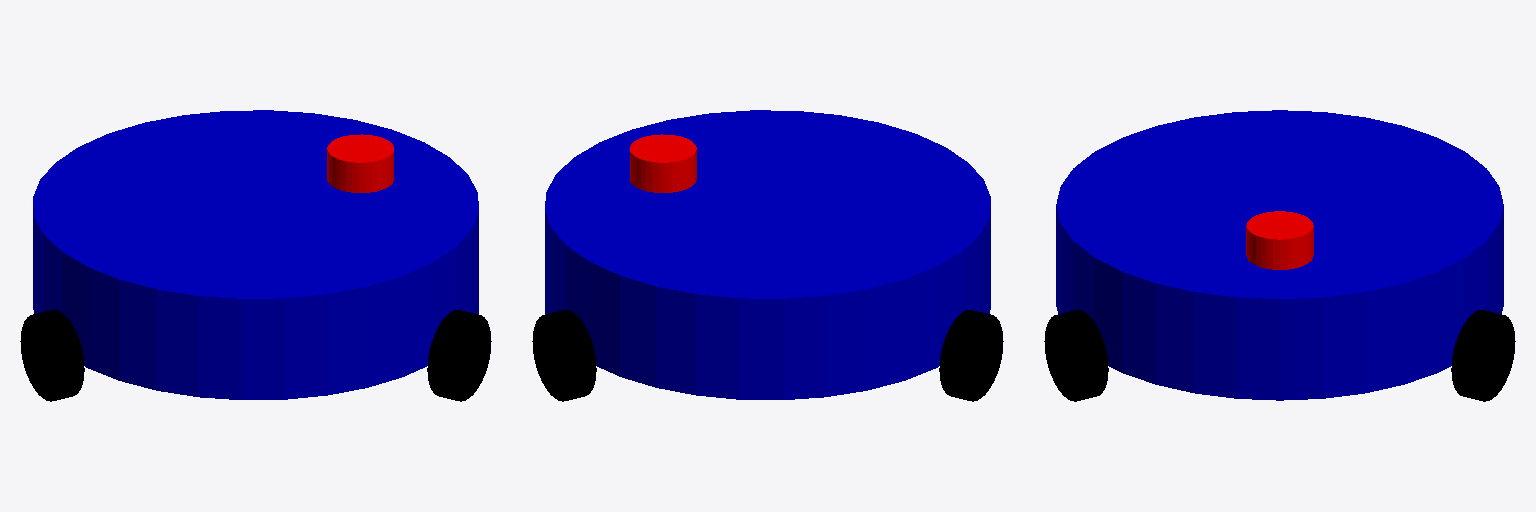
URDF robot description (three_wheeled_robot):
<?xml version="1.0"?>
<robot name="three_wheeled_robot">

  <material name="blue">
    <color rgba="0 0 0.8 1"/>
  </material>
  <material name="black">
    <color rgba="0 0 0 1"/>
  </material>
  <material name="red">
    <color rgba="1 0 0 1"/>
  </material>

  <link name="base_link">
    <visual>
      <geometry>
        <cylinder length="0.1" radius="0.2"/>
      </geometry>
      <material name="blue"/>
    </visual>
    <collision>
      <geometry>
        <cylinder length="0.1" radius="0.2"/>
      </geometry>
    </collision>
  </link>

  <link name="laser_link">
    <visual>
      <geometry>
        <cylinder length="0.03" radius="0.03"/>
      </geometry>
      <material name="red"/>
    </visual>
    <collision>
      <geometry>
        <cylinder length="0.03" radius="0.03"/>
      </geometry>
    </collision>
  </link>

  <joint name="laser_joint" type="fixed">
    <parent link="base_link"/>
    <child link="laser_link"/>
    <origin xyz="0.108162 0 0.065" rpy="0 0 0"/>
  </joint>

  <link name="wheel_1_link">
    <visual>
      <origin xyz="0 0 0" rpy="0 1.5708 0"/> 
      <geometry>
        <cylinder length="0.02" radius="0.04"/>
      </geometry>
      <material name="black"/>
    </visual>
  </link>

  <joint name="wheel_1_joint" type="continuous">
    <parent link="base_link"/>
    <child link="wheel_1_link"/>
    <origin xyz="0.105 0.18187 -0.05" rpy="0 0 1.0472"/>
    <axis xyz="1 0 0"/>
  </joint>

  <link name="wheel_2_link">
    <visual>
      <origin xyz="0 0 0" rpy="0 1.5708 0"/>
      <geometry>
        <cylinder length="0.02" radius="0.04"/>
      </geometry>
      <material name="black"/>
    </visual>
  </link>

  <joint name="wheel_2_joint" type="continuous">
    <parent link="base_link"/>
    <child link="wheel_2_link"/>
    <origin xyz="-0.21 0 -0.05" rpy="0 0 3.14159"/>
    <axis xyz="1 0 0"/>
  </joint>

  <link name="wheel_3_link">
    <visual>
      <origin xyz="0 0 0" rpy="0 1.5708 0"/>
      <geometry>
        <cylinder length="0.02" radius="0.04"/>
      </geometry>
      <material name="black"/>
    </visual>
  </link>

  <joint name="wheel_3_joint" type="continuous">
    <parent link="base_link"/>
    <child link="wheel_3_link"/>
    <origin xyz="0.105 -0.18187 -0.05" rpy="0 0 -1.0472"/>
    <axis xyz="1 0 0"/>
  </joint>

</robot>

--- What the picture shows (computed from the rendered views, not written in the file) ---
The picture shows the robot from 3 angles, left to right: view 1: azimuth 30°, elevation 25°; view 2: azimuth 150°, elevation 25°; view 3: azimuth 270°, elevation 25°; orthographic projection.
Model three_wheeled_robot with 5 links and 4 joints (3 continuous, 1 fixed), rooted at base_link, posed all joints at 0.
Links seen in each view (by area): view 1: base_link, wheel_2_link, wheel_3_link, laser_link; view 2: base_link, wheel_2_link, wheel_1_link, laser_link; view 3: base_link, wheel_1_link, wheel_3_link, laser_link.
Link boxes in pixels (left/top/right/bottom): base_link: left=33, top=110, right=478, bottom=399; wheel_2_link: left=20, top=310, right=84, bottom=401; wheel_3_link: left=427, top=310, right=491, bottom=401; laser_link: left=327, top=134, right=393, bottom=192; base_link: left=545, top=110, right=990, bottom=399; wheel_2_link: left=939, top=310, right=1003, bottom=401; wheel_1_link: left=532, top=310, right=596, bottom=401; laser_link: left=630, top=134, right=696, bottom=192; base_link: left=1056, top=110, right=1503, bottom=400; wheel_1_link: left=1451, top=310, right=1515, bottom=401; wheel_3_link: left=1044, top=310, right=1108, bottom=401; laser_link: left=1246, top=211, right=1313, bottom=269.
Bounding box of the posed robot: 0.42 × 0.4211 × 0.17 m (x, y, z).
Geometry: primitives only (box / cylinder / sphere), no mesh files.
